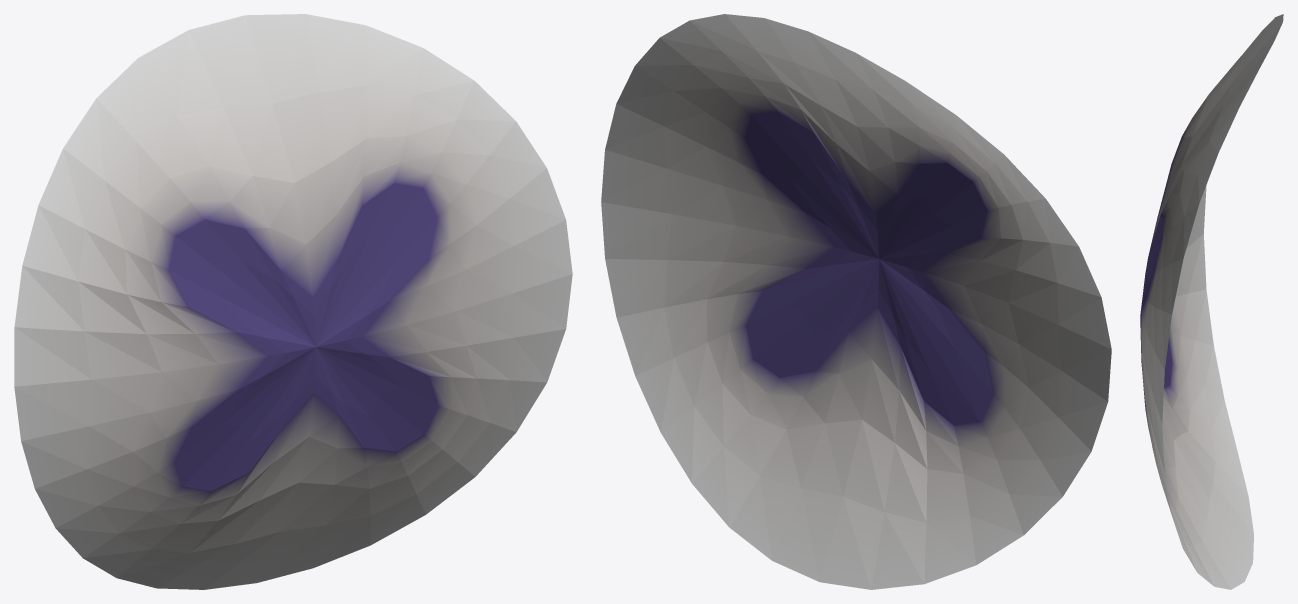
File: chigyo_eye.gltf
3 renders of one model, left to right at view 1: azimuth 30°, elevation 25°; view 2: azimuth 150°, elevation 25°; view 3: azimuth 270°, elevation 25°, orthographic. The views are drawn at different scales.
Size of the model in its own units: 0.1303 by 0.1303 by 0.0324.
